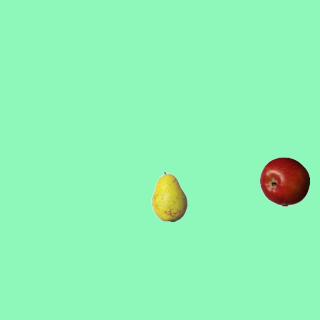Apple Braeburn: (259, 156, 309, 206)
Pear Monster: (144, 171, 194, 221)
